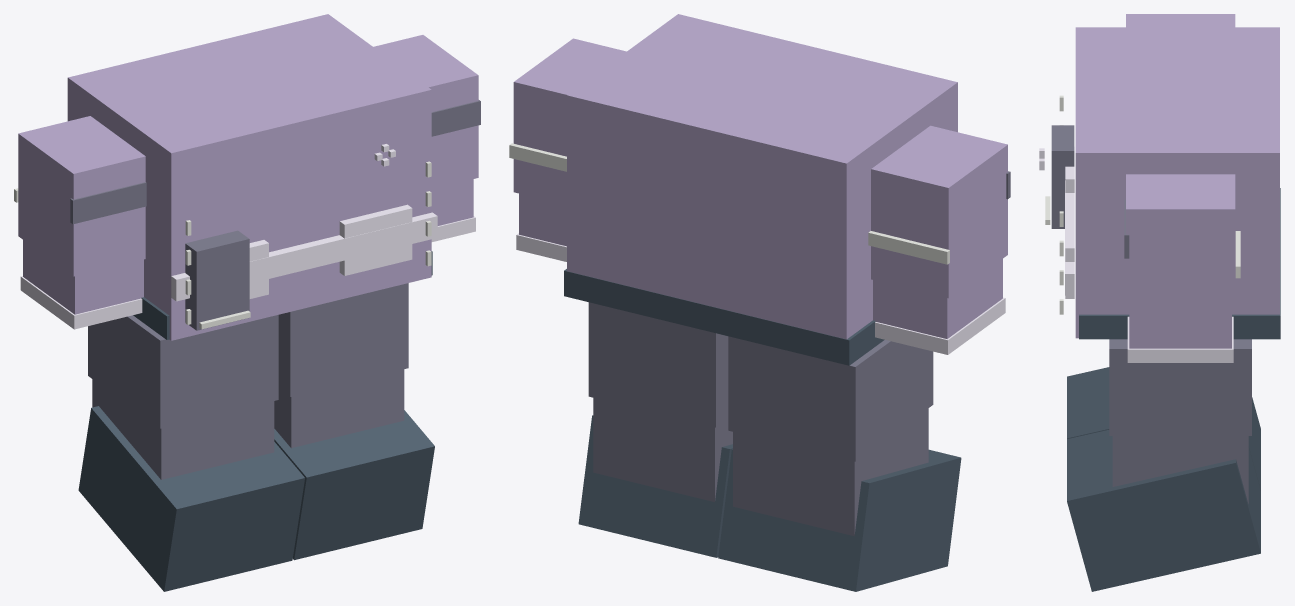
Rendered from workwear-lavender.glb.
3 renders of one model, left to right at view 1: azimuth 30°, elevation 25°; view 2: azimuth 150°, elevation 25°; view 3: azimuth 270°, elevation 25°, orthographic. The views are drawn at different scales.
Parts seen in each view (by area): view 1: jacket, shoe-Right, trouser-Right, upper-sleeve-Right, shoe-Left, trouser-Left, lower-trouser-Right, lower-trouser-Left, upper-sleeve-Left, tool-pocket, reflective-band, lower-sleeve-Right (+8 smaller); view 2: jacket, trouser-Right, shoe-Right, upper-sleeve-Right, trouser-Left, lower-trouser-Right, lower-trouser-Left, shoe-Left, upper-sleeve-Left, utility-belt, lower-sleeve-Right, cuff-Right (+4 smaller); view 3: jacket, shoe-Left, upper-sleeve-Left, trouser-Left, lower-trouser-Left, lower-sleeve-Left, shoe-Right, utility-belt, tool-pocket, cuff-Left, upper-sleeve-Right, reflective-band (+1 smaller).
Part boxes in pixels (box(x1,y1,x2,y2)): jacket: box(67, 14, 431, 340); shoe-Right: box(78, 406, 304, 591); trouser-Right: box(88, 315, 278, 428); upper-sleeve-Right: box(18, 116, 145, 276); shoe-Left: box(274, 410, 434, 560); trouser-Left: box(278, 283, 408, 396); lower-trouser-Right: box(92, 379, 274, 479); lower-trouser-Left: box(274, 369, 404, 448); upper-sleeve-Left: box(373, 35, 478, 188); tool-pocket: box(185, 230, 249, 330); reflective-band: box(171, 212, 437, 301); lower-sleeve-Right: box(23, 240, 143, 314); jacket: box(567, 14, 957, 339); trouser-Right: box(728, 336, 933, 461); shoe-Right: box(718, 449, 961, 591); upper-sleeve-Right: box(871, 125, 1007, 298); trouser-Left: box(588, 302, 728, 427); lower-trouser-Right: box(733, 408, 928, 536); lower-trouser-Left: box(593, 398, 732, 501); shoe-Left: box(578, 415, 732, 557); upper-sleeve-Left: box(513, 38, 626, 204); utility-belt: box(564, 269, 884, 365); lower-sleeve-Right: box(873, 259, 1002, 338); cuff-Right: box(875, 297, 1005, 354); jacket: box(1075, 27, 1279, 338); shoe-Left: box(1067, 430, 1260, 591); upper-sleeve-Left: box(1126, 174, 1235, 310); trouser-Left: box(1109, 339, 1251, 435); lower-trouser-Left: box(1112, 436, 1248, 503); lower-sleeve-Left: box(1129, 310, 1231, 348); shoe-Right: box(1067, 367, 1260, 490); utility-belt: box(1079, 188, 1280, 339); tool-pocket: box(1051, 125, 1074, 228); cuff-Left: box(1127, 316, 1233, 362); upper-sleeve-Right: box(1126, 14, 1235, 27); reflective-band: box(1065, 180, 1074, 295).
Bounding box in the file's own units: 1.08 × 1.13 × 0.56.
